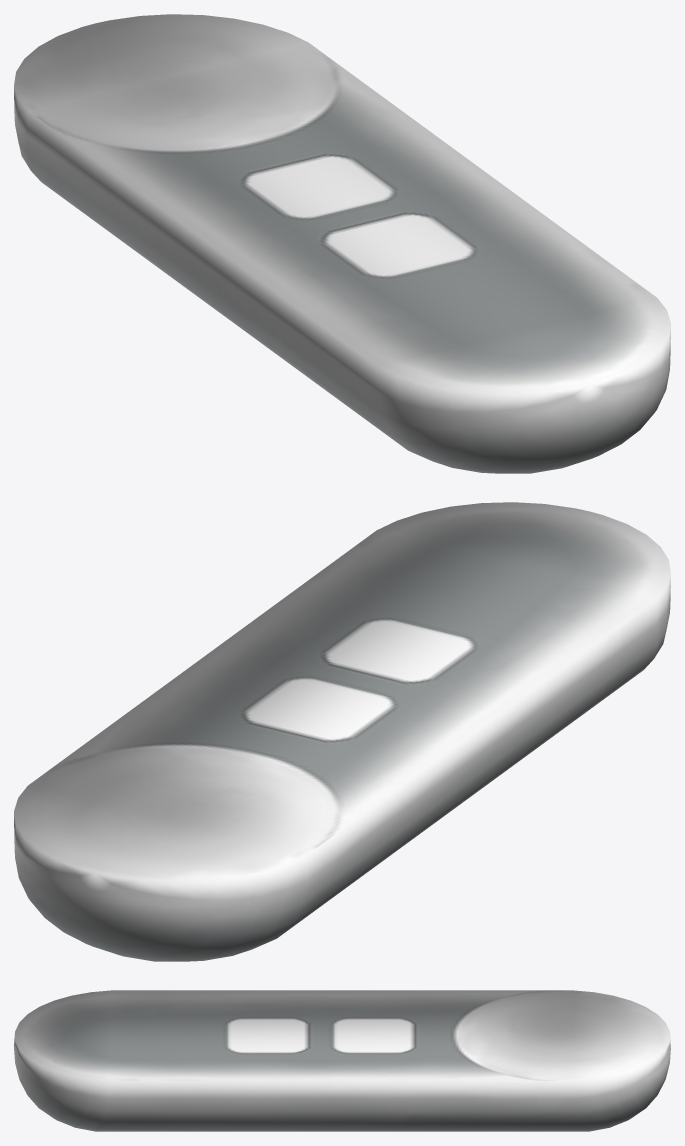
Rendered from controller_model.obj.
3 views of the same model, one above another, from view 1: azimuth 30°, elevation 25°; view 2: azimuth 150°, elevation 25°; view 3: azimuth 270°, elevation 25° (orthographic). The views are drawn at different scales.
Visible parts, largest first — view 1: Sphere002; view 2: Sphere002; view 3: Sphere002.
Boxes of the visible parts, x1,y1,x2,y2 form: Sphere002: (14,14,670,473); Sphere002: (14,502,670,961); Sphere002: (14,990,670,1131).
Size of the model in its own units: 3.18 by 1.25 by 9.72.
1 material, 1 textured.
